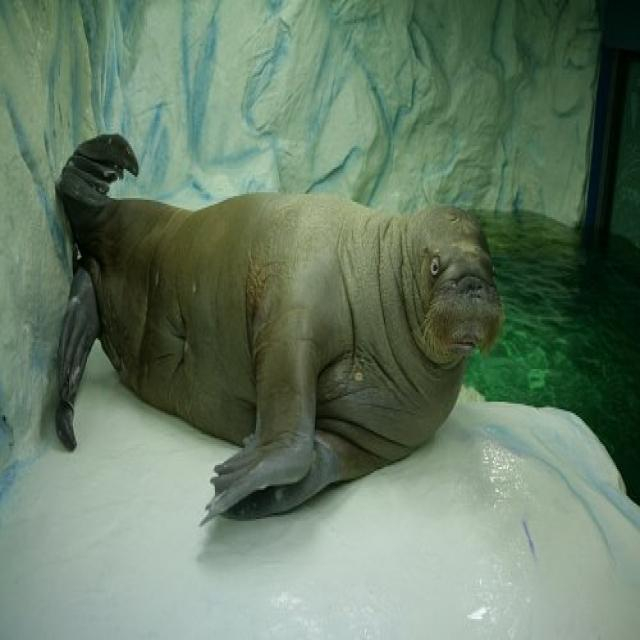walrus: (34, 112, 516, 540)
